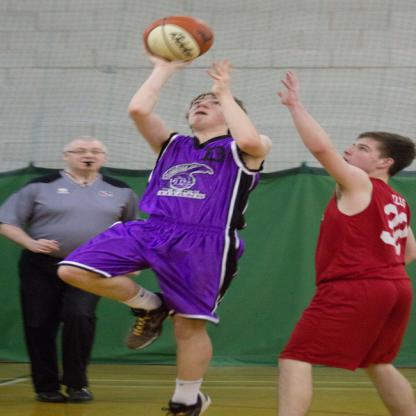Ball: (145, 15, 214, 64)
